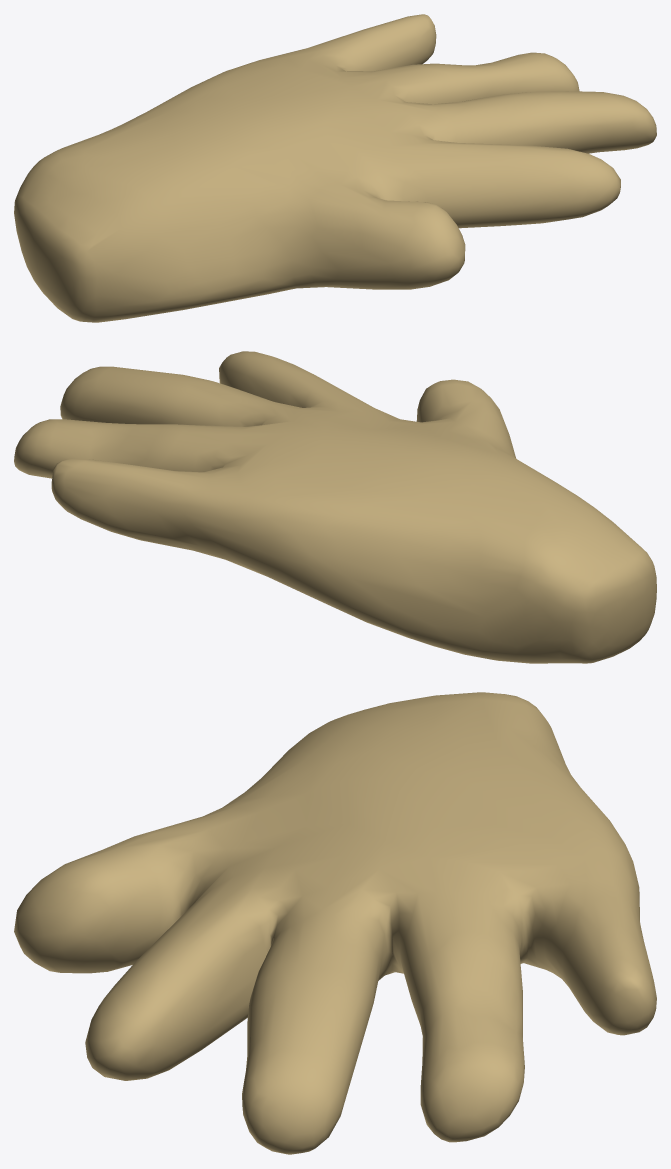
Rendered from G_main.fbx.
3 views of the same model, one above another, from view 1: azimuth 30°, elevation 25°; view 2: azimuth 150°, elevation 25°; view 3: azimuth 270°, elevation 25° (orthographic). The views are drawn at different scales.
Parts seen in each view (by area): view 1: G_main; view 2: G_main; view 3: G_main.
Part boxes in pixels (x1,y1,x2,y2): G_main: (14, 14, 656, 322); G_main: (14, 351, 656, 663); G_main: (14, 692, 656, 1154).
Size of the model in its own units: 85.69 by 20.55 by 55.98.
